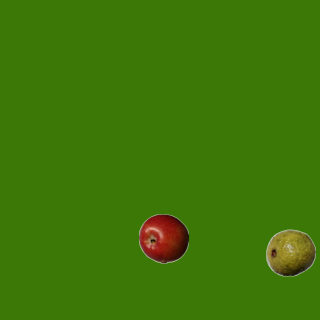Apple Braeburn: (138, 213, 188, 263)
Guava: (265, 227, 315, 277)
